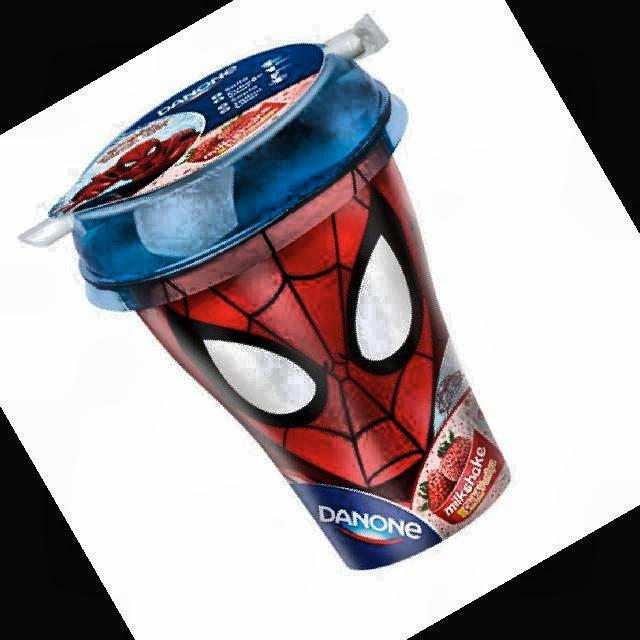plastic: (55, 45, 509, 569)
